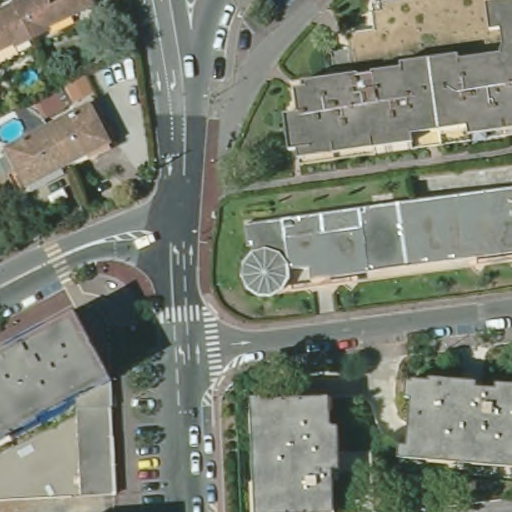pool: (11, 65, 45, 96), (1, 115, 29, 146)
